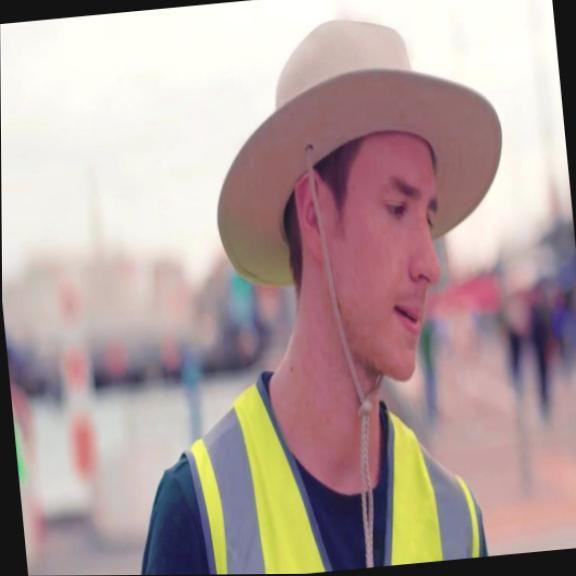safety_vest: (171, 354, 482, 575)
